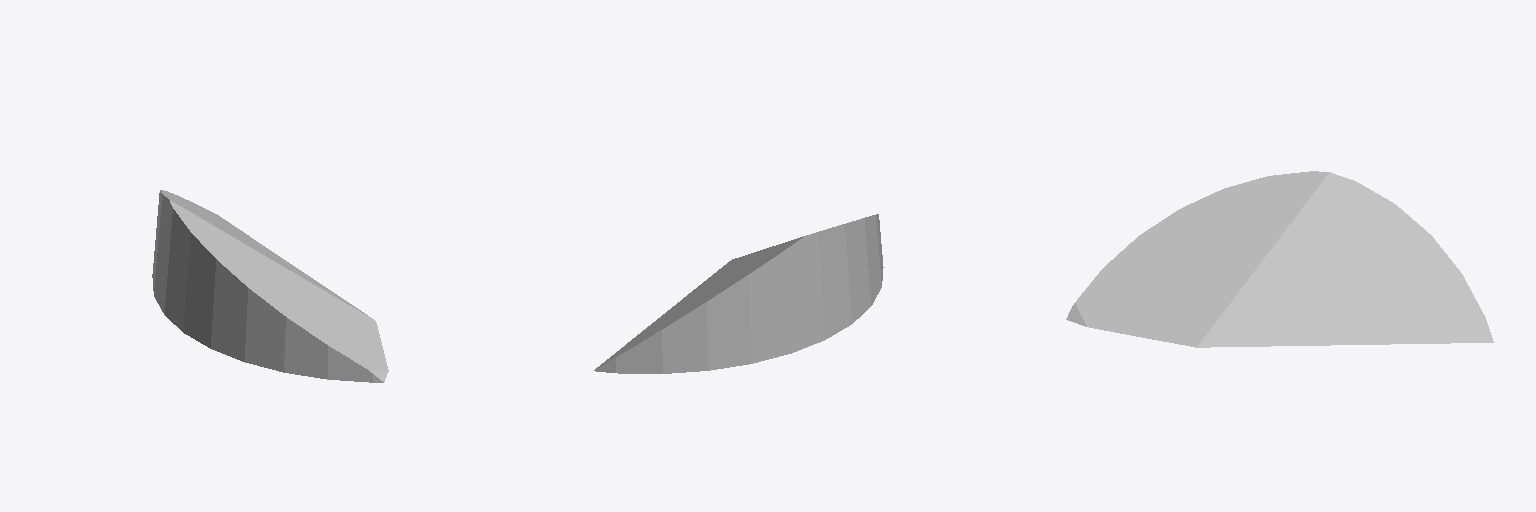
Rendered from torii_broken_031.obj.
The picture shows the model from 3 angles: view 1: azimuth 30°, elevation 25°; view 2: azimuth 150°, elevation 25°; view 3: azimuth 270°, elevation 25°; orthographic projection.
Parts seen in each view (by area): view 1: 鳥居.001_cell.030_鳥居.001_cell.017; view 2: 鳥居.001_cell.030_鳥居.001_cell.017; view 3: 鳥居.001_cell.030_鳥居.001_cell.017.
Boxes of the visible parts, x1,y1,x2,y2 form: 鳥居.001_cell.030_鳥居.001_cell.017: [152, 190, 388, 382]; 鳥居.001_cell.030_鳥居.001_cell.017: [594, 214, 883, 373]; 鳥居.001_cell.030_鳥居.001_cell.017: [1066, 171, 1493, 347].
Bounding box in the file's own units: 0.1693 × 0.1104 × 0.4002.